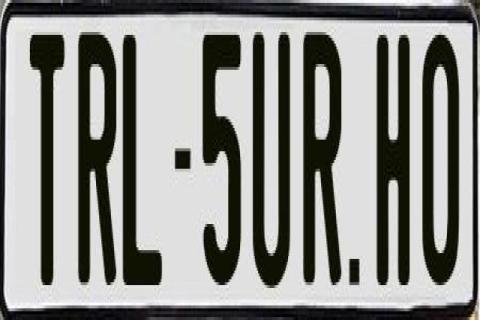0: (419, 32, 460, 296), (200, 29, 240, 282)
H: (374, 32, 409, 282)
L: (123, 35, 169, 285)
R: (300, 27, 340, 297), (75, 23, 115, 276)
T: (28, 29, 61, 279)
U: (250, 32, 287, 306)
